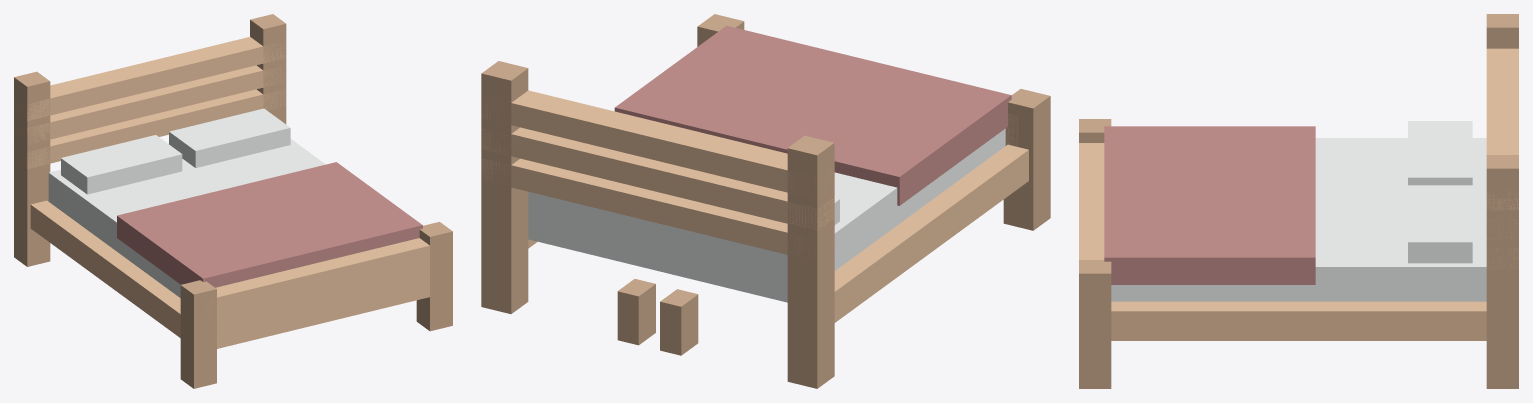
Rendered from bedDoubleRustic.glb.
3 renders of one model, left to right at view 1: azimuth 30°, elevation 25°; view 2: azimuth 150°, elevation 25°; view 3: azimuth 270°, elevation 25°, orthographic. The views are drawn at different scales.
Parts seen in each view (by area): view 1: bedDoubleRustic; view 2: bedDoubleRustic; view 3: bedDoubleRustic.
Part boxes in pixels (<box>): bedDoubleRustic: <box>14,14,452,388</box>; bedDoubleRustic: <box>481,14,1050,388</box>; bedDoubleRustic: <box>1079,14,1518,388</box>.
Bounding box in the file's own units: 0.79 × 0.525 × 0.95.
